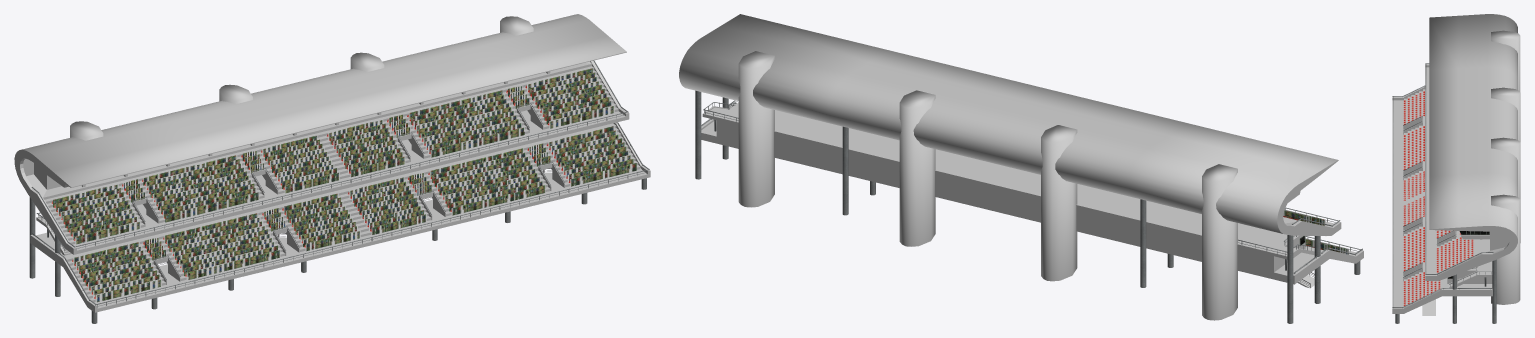
File: GrandStand-02.fbx
The picture shows the model from 3 angles, left to right: view 1: azimuth 30°, elevation 25°; view 2: azimuth 150°, elevation 25°; view 3: azimuth 270°, elevation 25°; orthographic projection. The views are drawn at different scales.
Visible parts, largest first — view 1: GrandStand-02, Audience; view 2: GrandStand-02, Audience; view 3: GrandStand-02.
Boxes of the visible parts, x1,y1,x2,y2 form: GrandStand-02: [14, 14, 650, 323]; Audience: [53, 68, 636, 302]; GrandStand-02: [679, 14, 1363, 323]; Audience: [1283, 210, 1348, 254]; GrandStand-02: [1392, 14, 1520, 323].
Size of the model in its own units: 13156 by 2917 by 3363.
